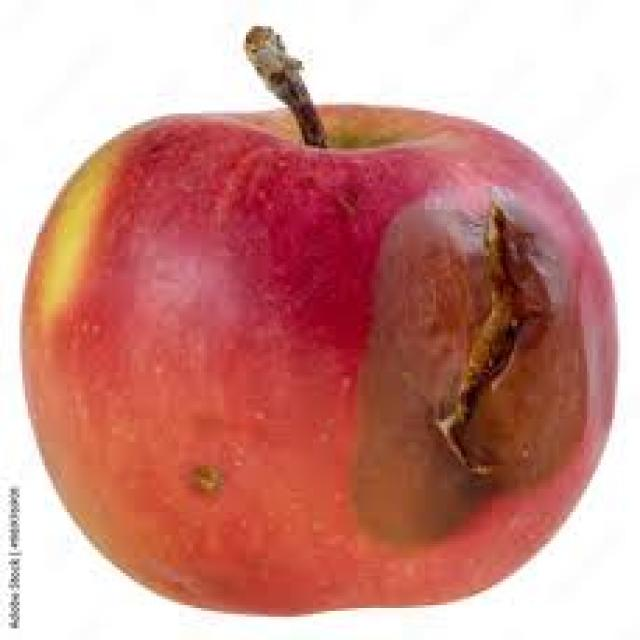Apple: (45, 87, 604, 602)
